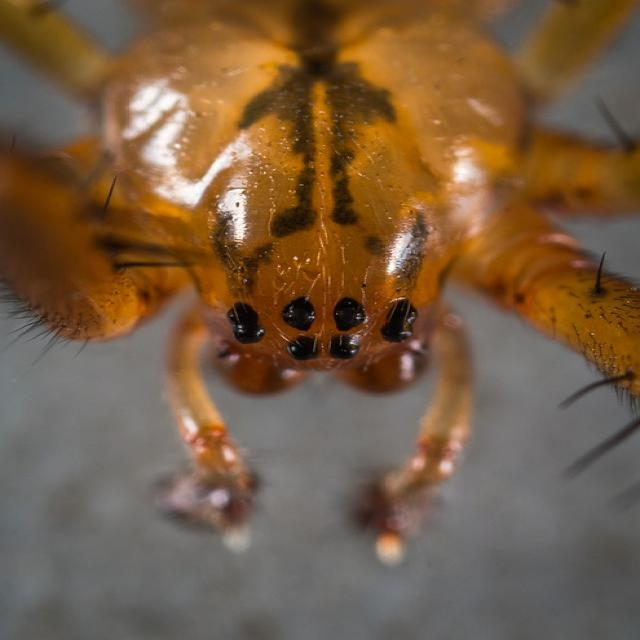spyder: (2, 0, 638, 560)
